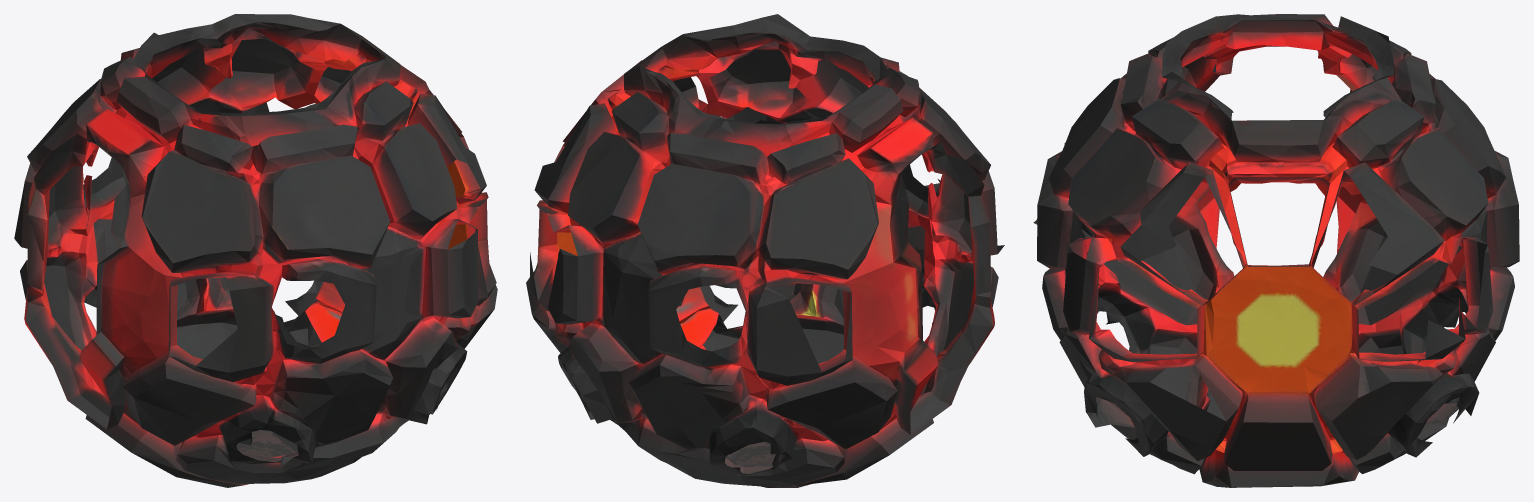
Rendered from kamikaze_meshy_core.fbx.
The picture shows the model from 3 angles, left to right: view 1: azimuth 30°, elevation 25°; view 2: azimuth 150°, elevation 25°; view 3: azimuth 270°, elevation 25°; orthographic projection. The views are drawn at different scales.
Visible parts, largest first — view 1: SM_Kamikaze_Core_Meshy; view 2: SM_Kamikaze_Core_Meshy; view 3: SM_Kamikaze_Core_Meshy.
Part boxes in pixels (x1,y1,x2,y2): SM_Kamikaze_Core_Meshy: (14,14,497,487); SM_Kamikaze_Core_Meshy: (526,14,1004,487); SM_Kamikaze_Core_Meshy: (1033,14,1519,487).
Bounding box in the file's own units: 103 × 98.64 × 104.
Materials: 1 (1 with a texture image).
